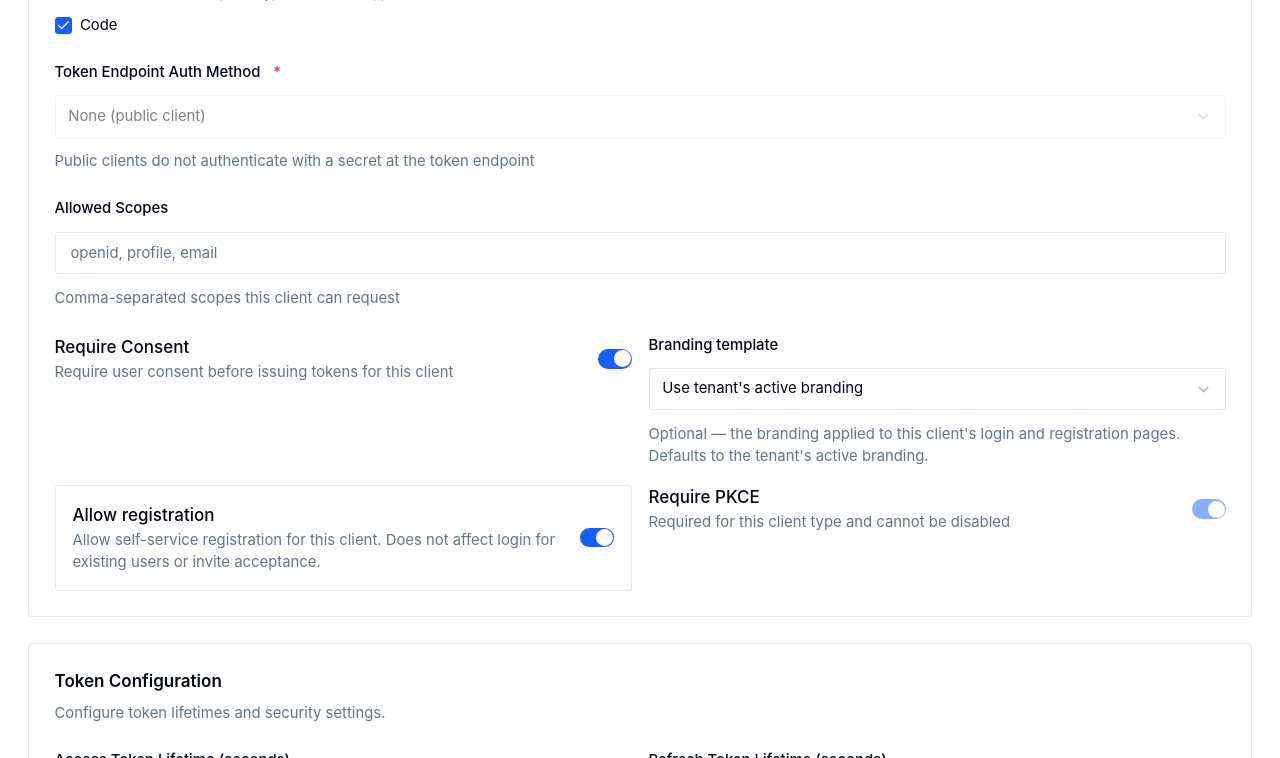
Test: ClientAddOrUpdateForm › keeps the discard prompt closed while staying on the form
(page scrolled)
Click the switch named "require consent" in the row of "Require Consent".
click(614, 359)  # box top-left (598, 349), bottom-right (632, 369)
(page scrolled)
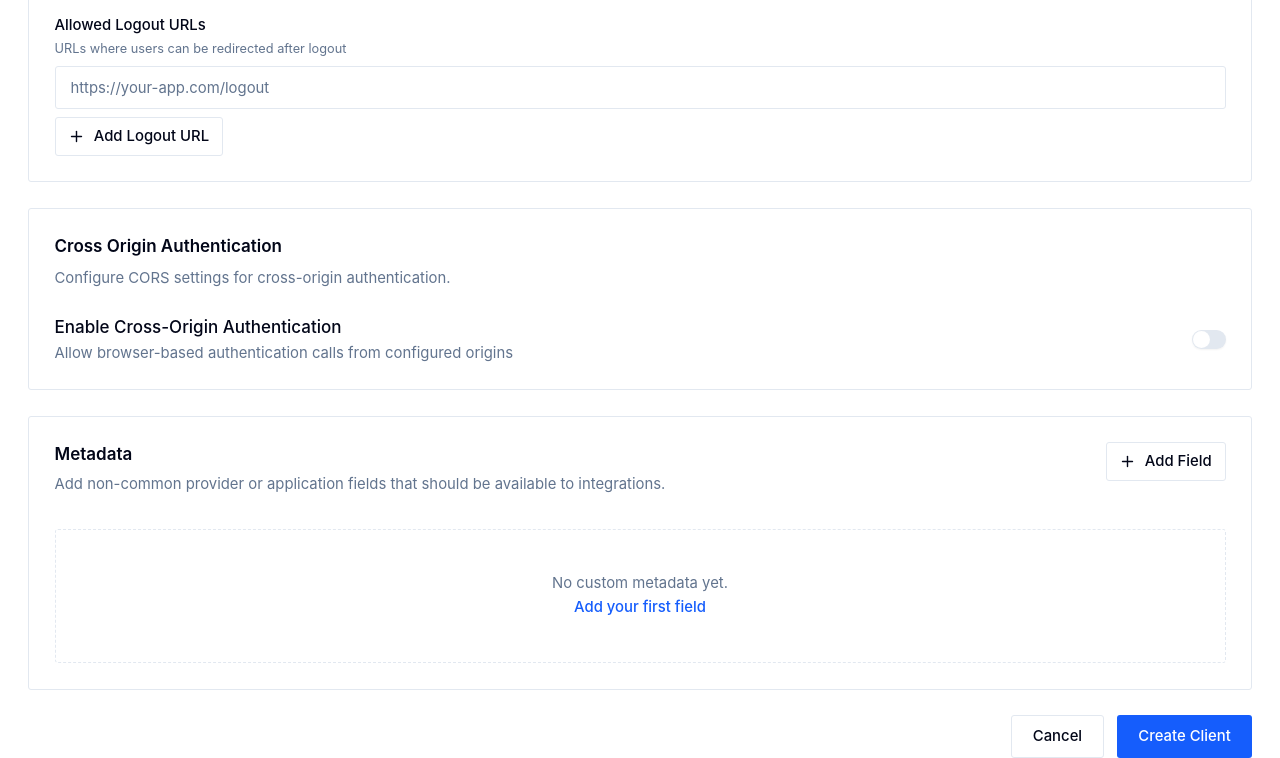
Click the button "Cancel".
click(1057, 736)  # box top-left (1010, 715), bottom-right (1104, 757)
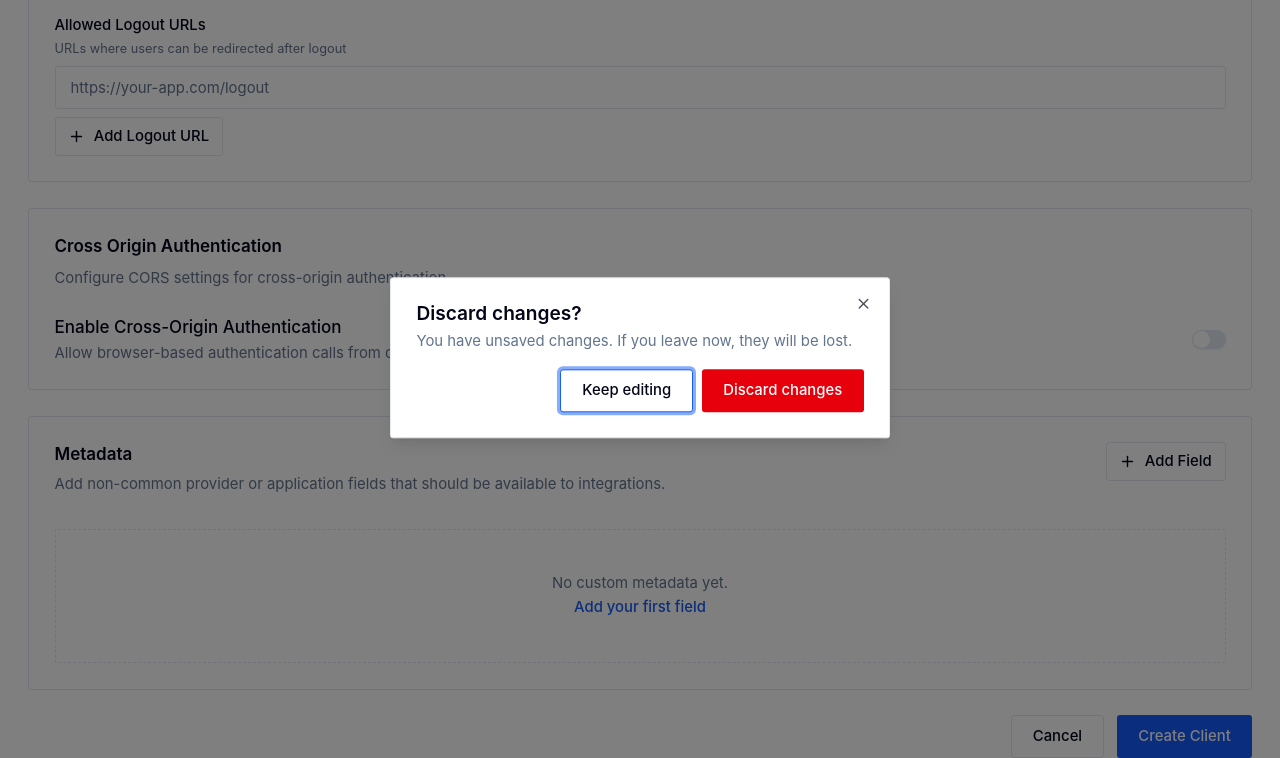
Click the button "Keep editing".
click(627, 391)  # box top-left (560, 370), bottom-right (693, 412)
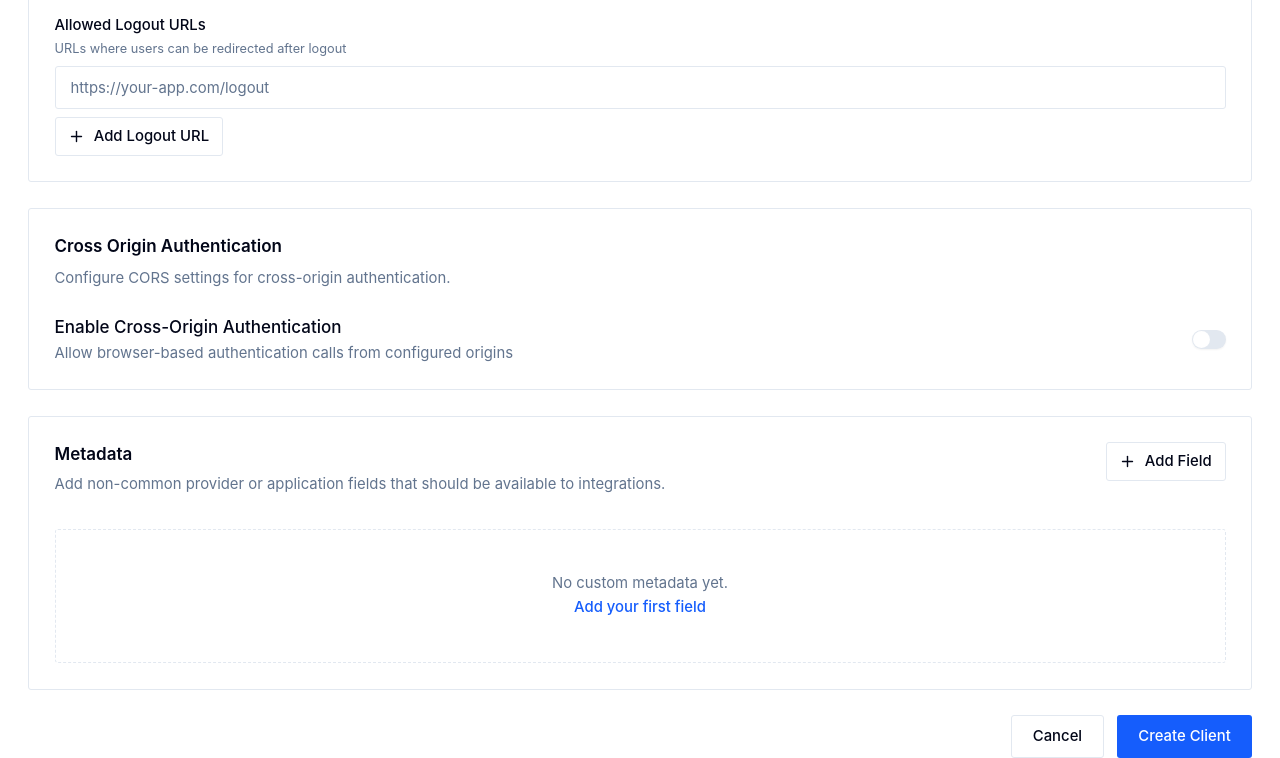
Now the heading "Discard changes?" is gone
